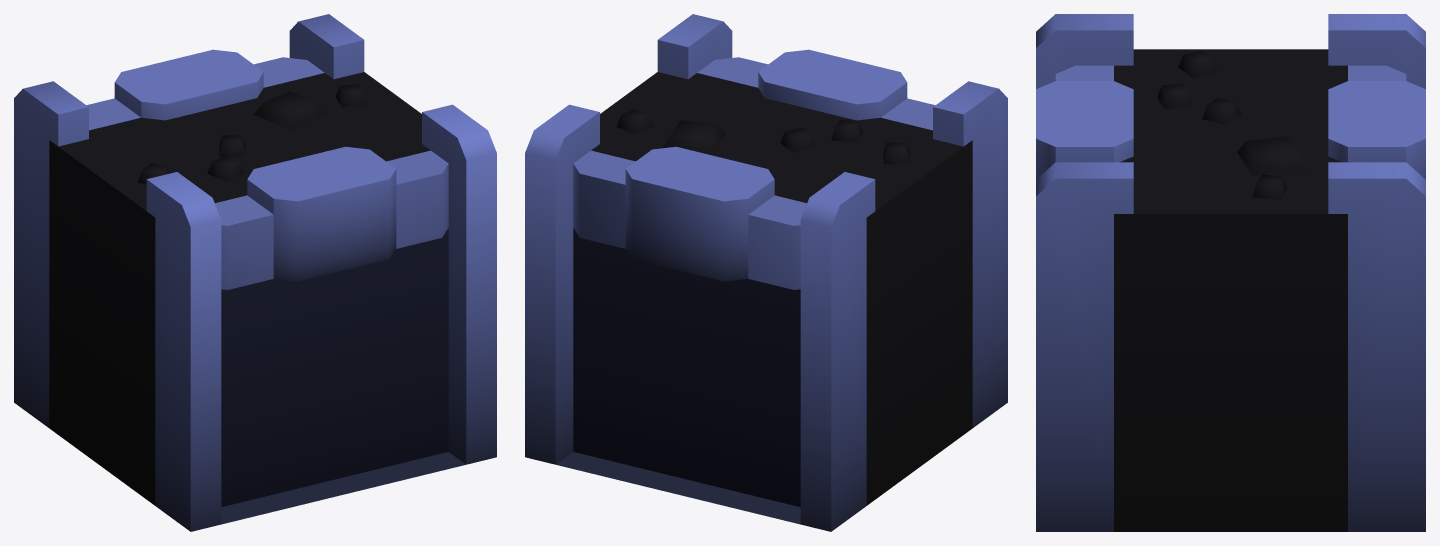
The model's file is wall-narrow.fbx.
3 renders of one model, left to right at view 1: azimuth 30°, elevation 25°; view 2: azimuth 150°, elevation 25°; view 3: azimuth 270°, elevation 25°, orthographic. The views are drawn at different scales.
Visible parts, largest first — view 1: wall-narrow; view 2: wall-narrow; view 3: wall-narrow.
Part boxes in pixels (<box>): wall-narrow: <box>14,14,496,531</box>; wall-narrow: <box>525,14,1007,531</box>; wall-narrow: <box>1036,14,1425,531</box>.
Bounding box in the file's own units: 10 × 10 × 10.
